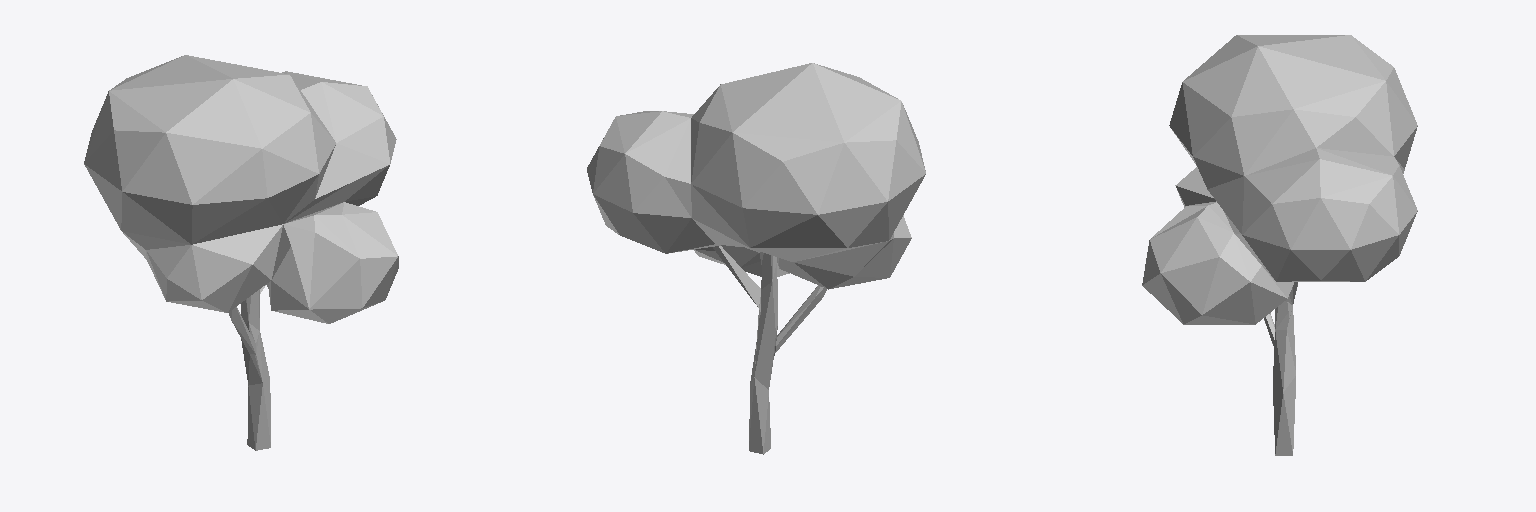
Rendered from Tree2.obj.
The picture shows the model from 3 angles: view 1: azimuth 30°, elevation 25°; view 2: azimuth 150°, elevation 25°; view 3: azimuth 270°, elevation 25°; orthographic projection.
Visible parts, largest first — view 1: Tree_Cylinder.002; view 2: Tree_Cylinder.002; view 3: Tree_Cylinder.002.
Boxes of the visible parts, box(x1,y1,x2,y2) form: Tree_Cylinder.002: box(84, 55, 398, 450); Tree_Cylinder.002: box(587, 63, 925, 454); Tree_Cylinder.002: box(1142, 35, 1417, 455).
Bounding box in the file's own units: 16.09 × 20.36 × 13.16.